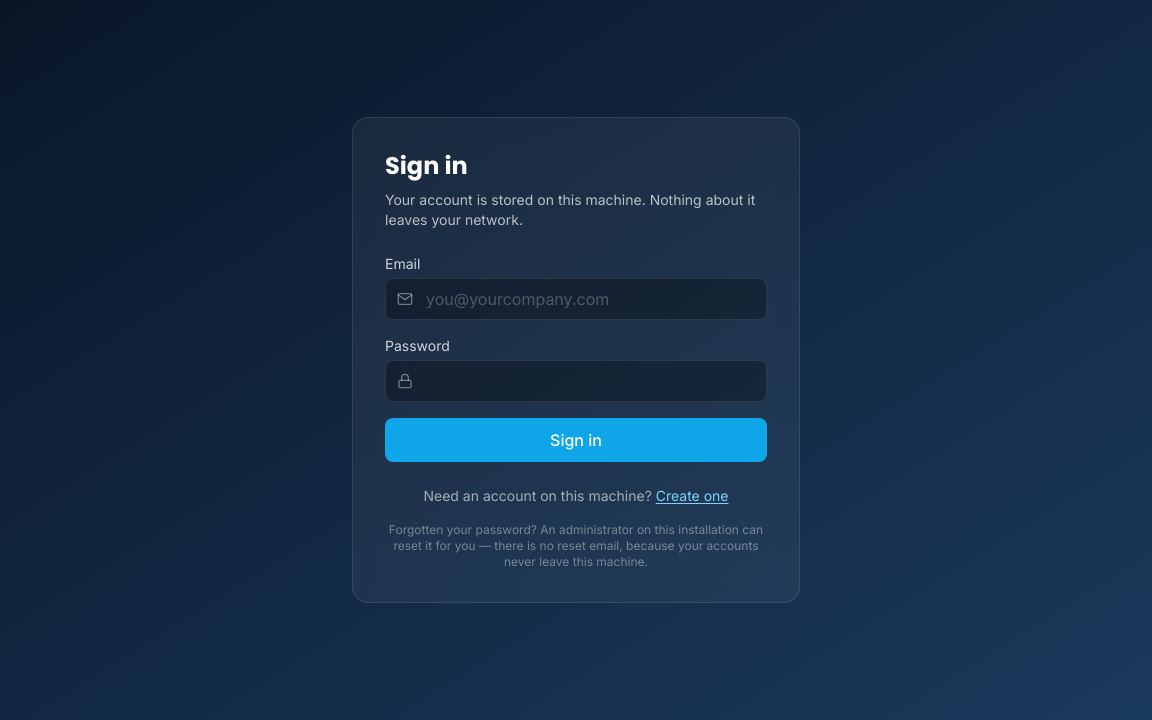
Test case: the local sign-in screen › surfaces the server’s reason for a failed sign-in
The width and height of the screenshot is (1152, 720).
Expected: the heading "Sign in" is shown, x1=385 y1=149 x2=468 y2=182
Type "a@b.c" into the field with placeholder "you@yourcompany.com" at (576, 299), box x1=385 y1=278 x2=767 y2=320
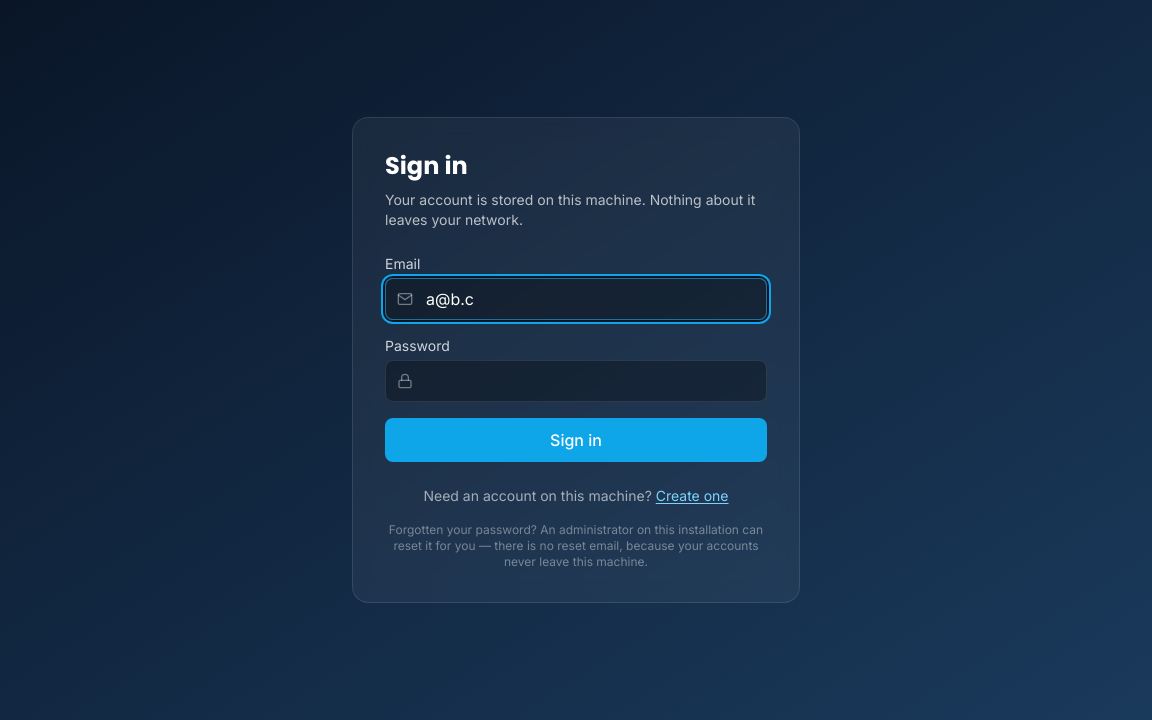
Type "wrongpassword1" into the password field labelled "Password" at (576, 381), box x1=385 y1=360 x2=767 y2=402
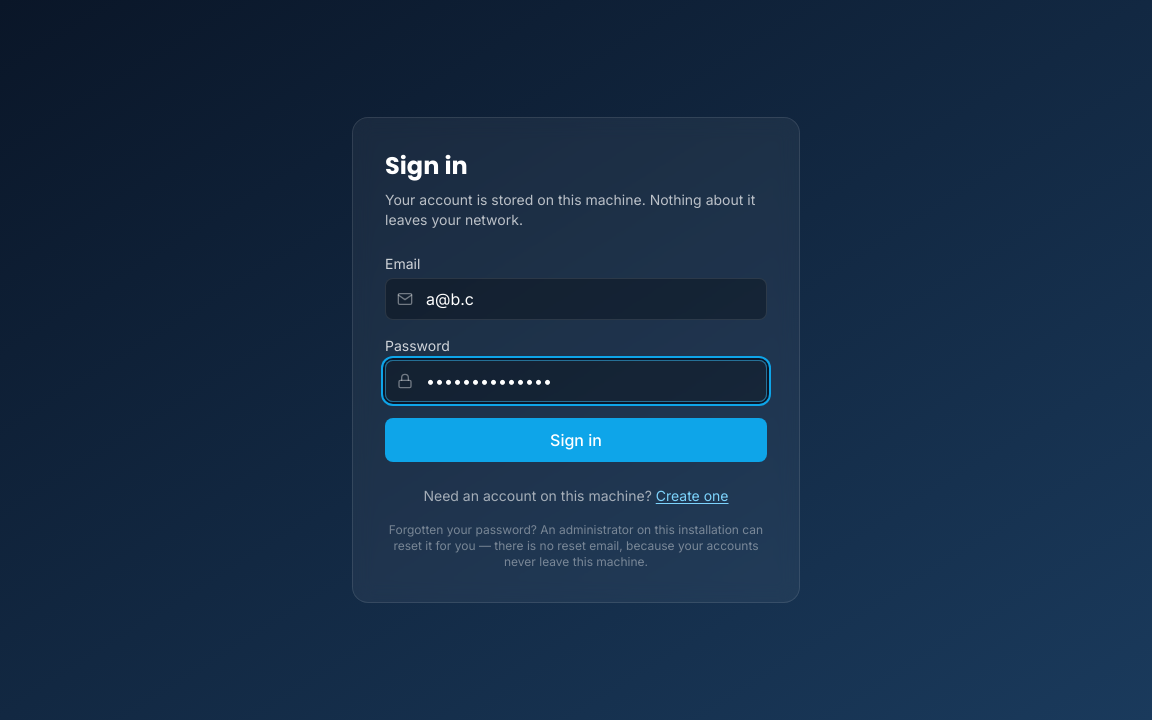
Click the button "Sign in" at (576, 440), box x1=385 y1=418 x2=767 y2=462
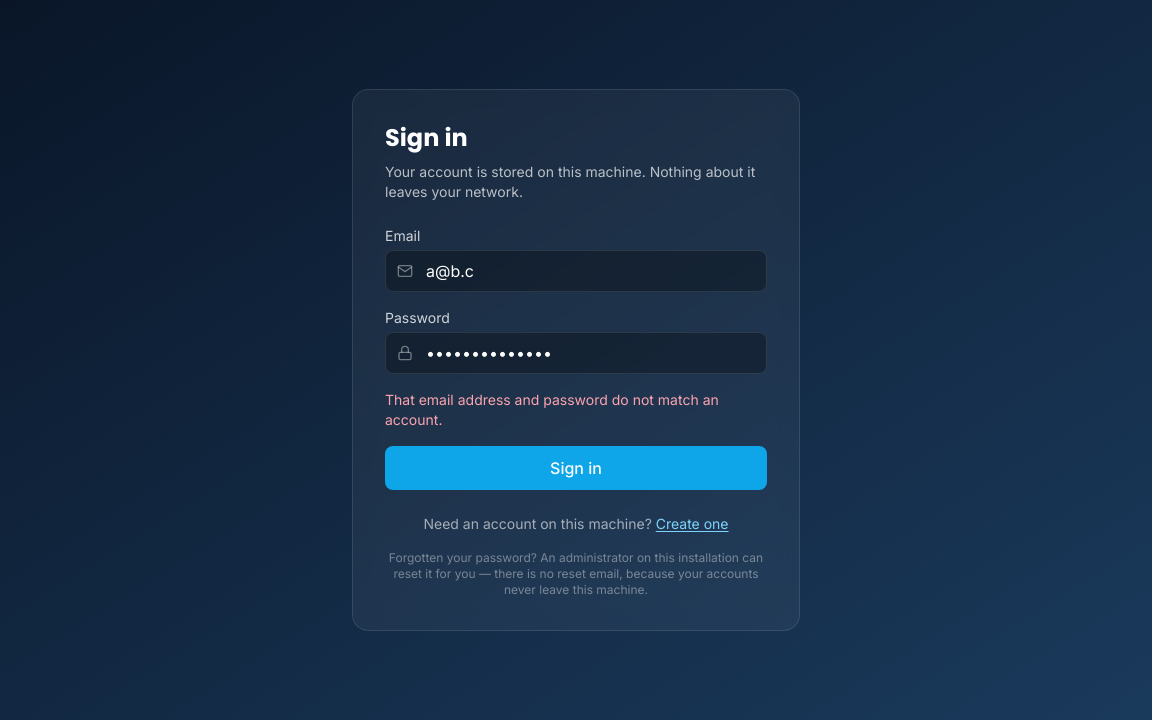
Result: the message shows "do not match an account" at x1=385 y1=391 x2=719 y2=428
